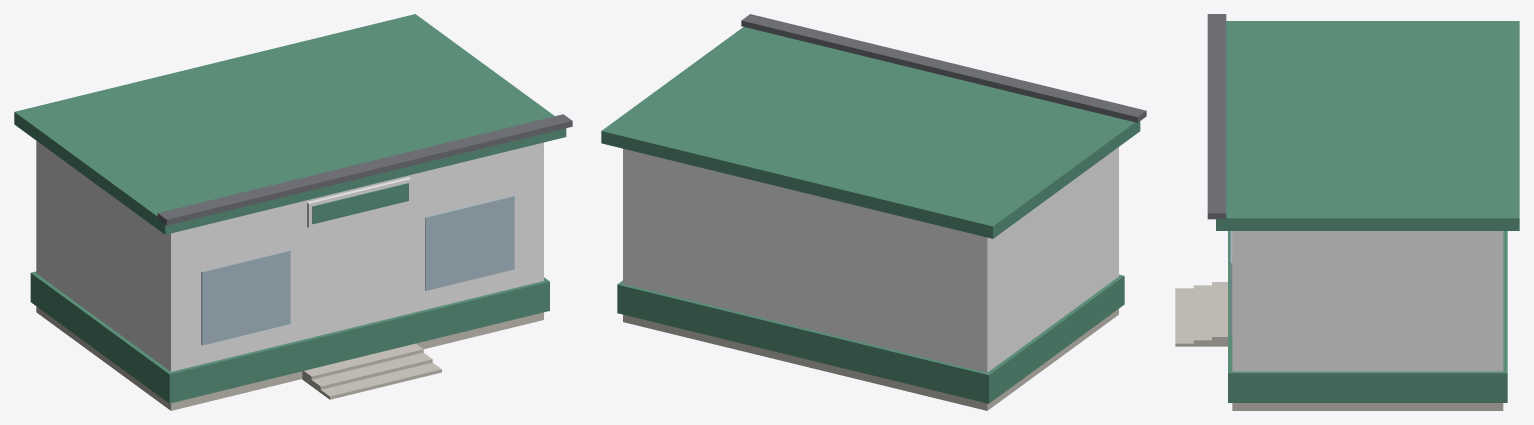
Rendered from racecourse-and-parade-ring-weighing-room-front-8f0f5c7f__38617.glb.
3 renders of one model, left to right at view 1: azimuth 30°, elevation 25°; view 2: azimuth 150°, elevation 25°; view 3: azimuth 270°, elevation 25°, orthographic. The views are drawn at different scales.
Parts seen in each view (by area): view 1: weighing-room-front; view 2: weighing-room-front; view 3: weighing-room-front.
Part boxes in pixels (bbox=[...]): weighing-room-front: bbox=[14, 14, 572, 410]; weighing-room-front: bbox=[601, 14, 1146, 410]; weighing-room-front: bbox=[1175, 14, 1519, 410].
Size of the model in its own units: 8.7 by 4.18 by 6.35.
